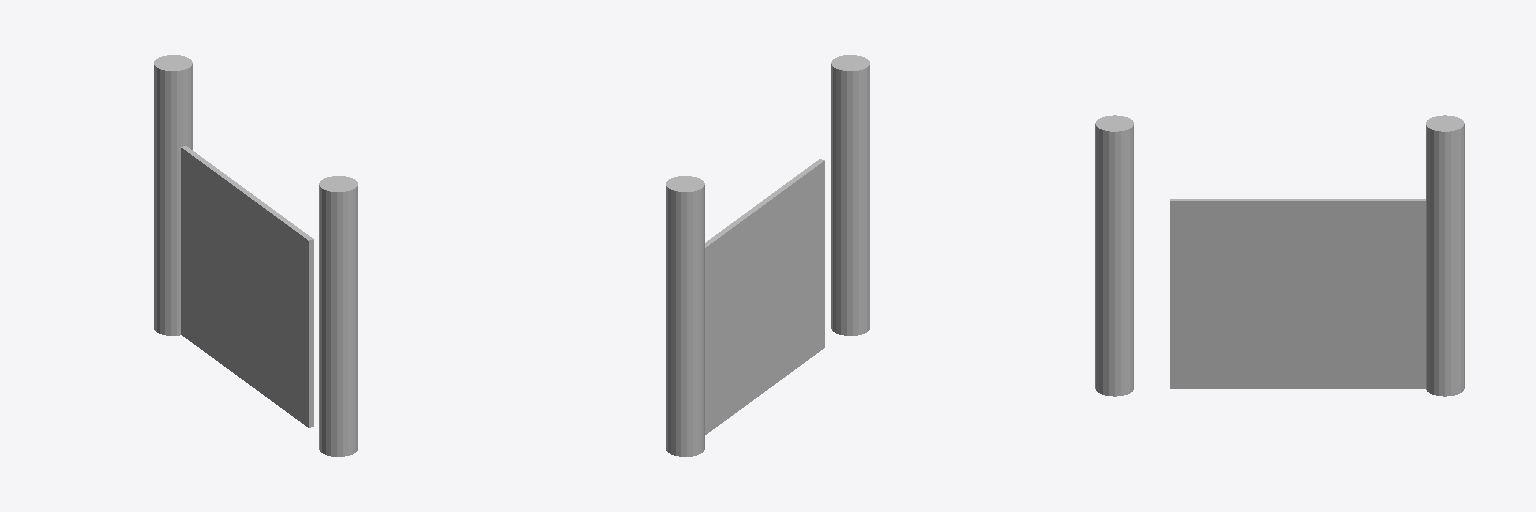
The model's file is walldouble12.obj.
3 renders of one model, left to right at view 1: azimuth 30°, elevation 25°; view 2: azimuth 150°, elevation 25°; view 3: azimuth 270°, elevation 25°, orthographic.
Parts seen in each view (by area): view 1: walldouble12; view 2: walldouble12; view 3: walldouble12.
Boxes of the visible parts, box(x1,y1,x2,y2) form: walldouble12: box(154, 55, 357, 456); walldouble12: box(666, 55, 869, 456); walldouble12: box(1095, 115, 1464, 396).
Size of the model in its own units: 3.28 by 24.63 by 31.14.